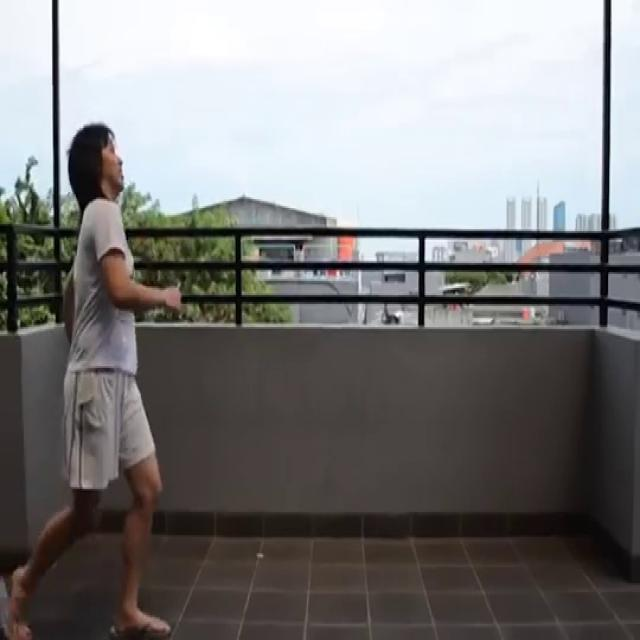normal: (12, 117, 186, 640)
